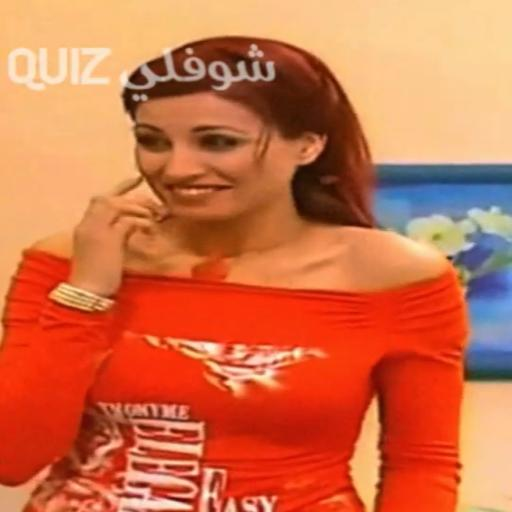Dalanda: (134, 93, 324, 221)
